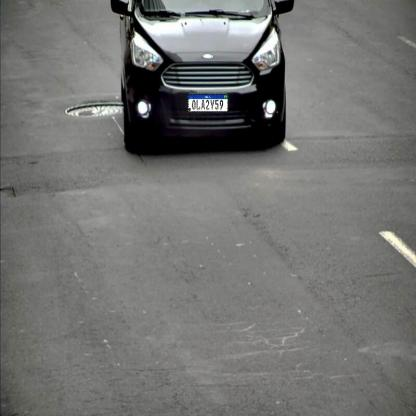PlacaM: (188, 94, 228, 112)
